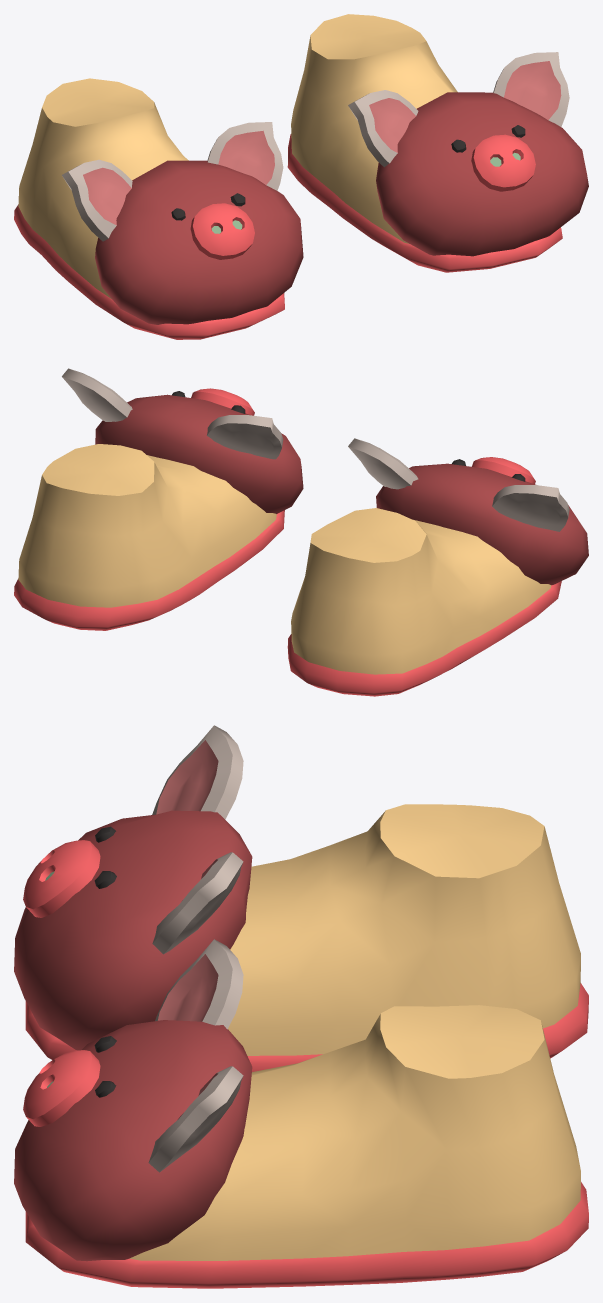
Rendered from Shoes_04_02.fbx.
3 views of the same model, one above another, from view 1: azimuth 30°, elevation 25°; view 2: azimuth 150°, elevation 25°; view 3: azimuth 270°, elevation 25° (orthographic). The views are drawn at different scales.
Visible parts, largest first — view 1: Shoes_04_02; view 2: Shoes_04_02; view 3: Shoes_04_02.
Part boxes in pixels (box(x1,y1,x2,y2)): Shoes_04_02: box(14, 14, 588, 339); Shoes_04_02: box(14, 368, 588, 696); Shoes_04_02: box(14, 725, 588, 1288).
Size of the model in its own units: 31.98 by 9.13 by 20.99.
